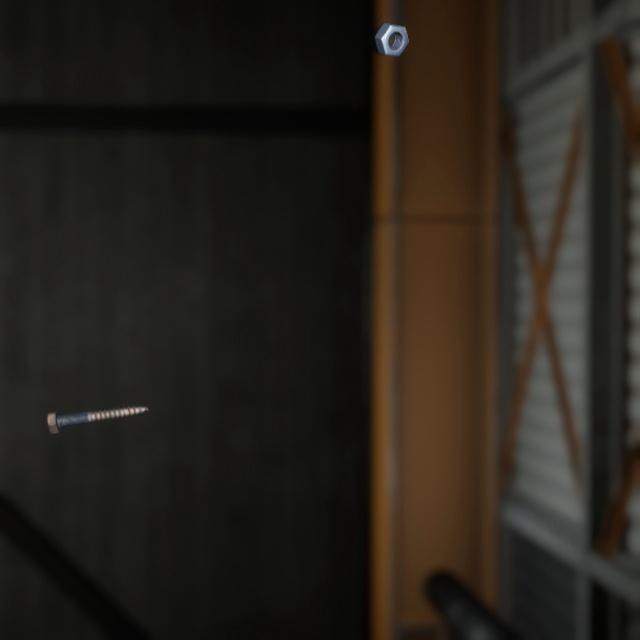bolt: (42, 381, 153, 419)
nut: (370, 10, 413, 53)
